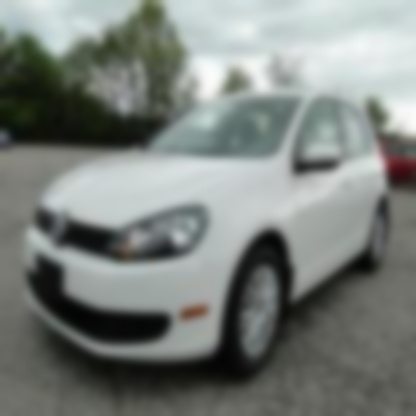Vehicle: (20, 86, 390, 386)
